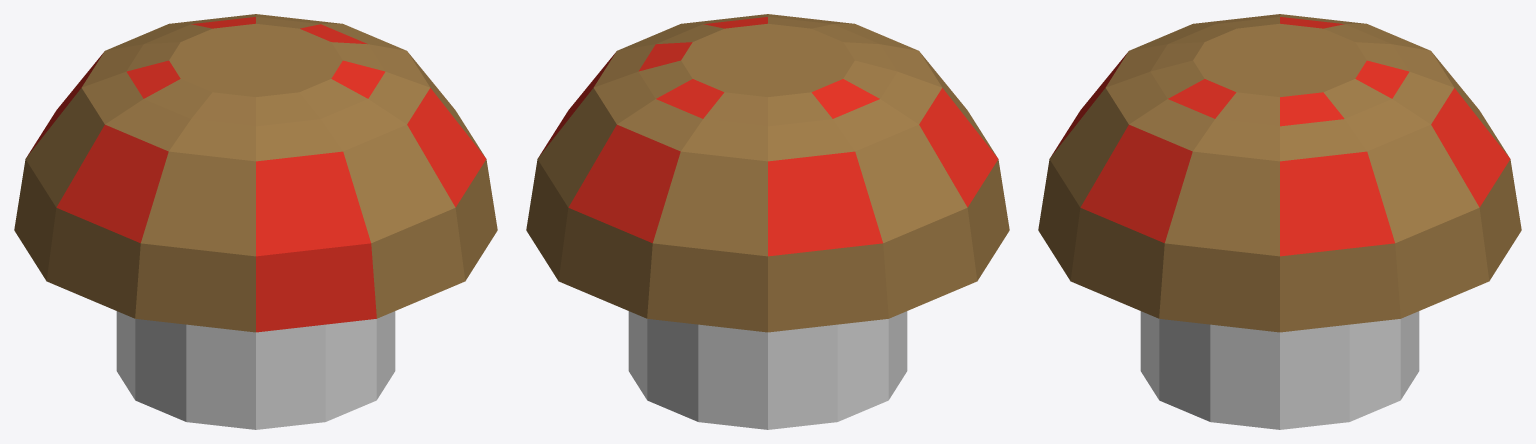
File: mushroom.glb
The picture shows the model from 3 angles, left to right: view 1: azimuth 30°, elevation 25°; view 2: azimuth 150°, elevation 25°; view 3: azimuth 270°, elevation 25°; orthographic projection.
Visible parts, largest first — view 1: model; view 2: model; view 3: model.
Part boxes in pixels (bbox=[...]): model: bbox=[14, 14, 497, 429]; model: bbox=[526, 14, 1009, 429]; model: bbox=[1038, 14, 1521, 429].
Size of the model in its own units: 3.47 by 2.46 by 3.47.
